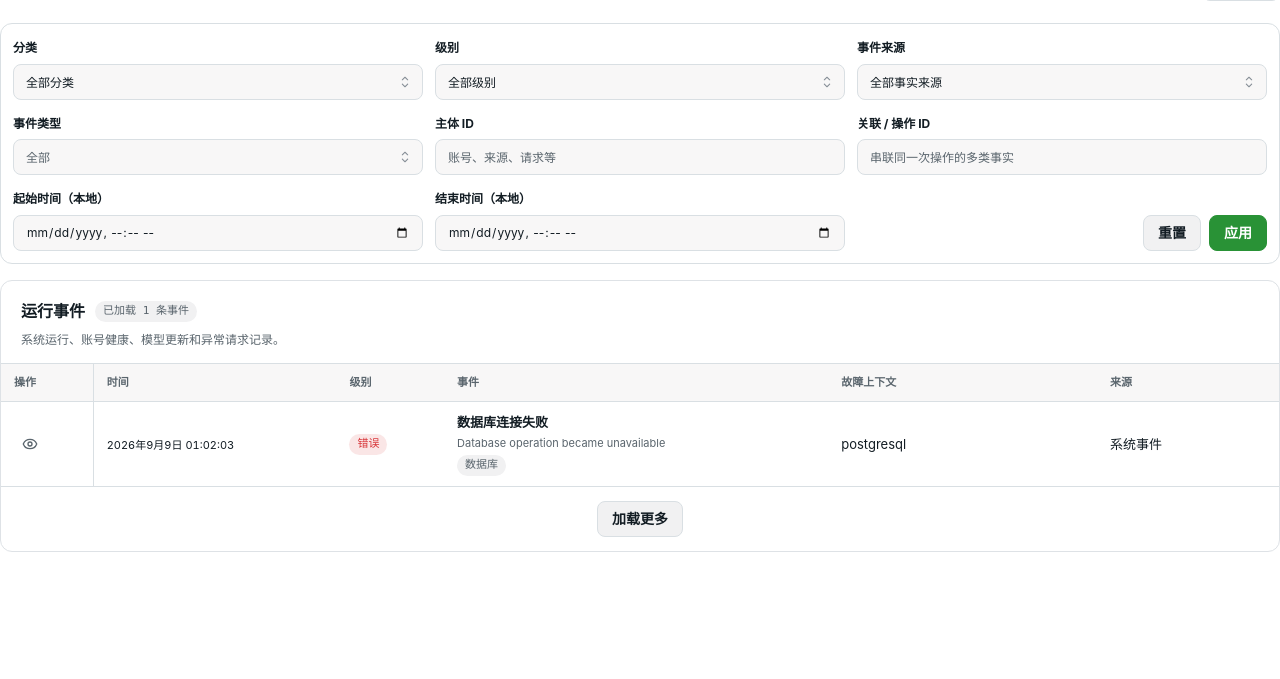
Test case: RuntimeEventsPage › cancels pagination when refresh starts and keeps the published cursor after refresh fails
What coordinates should you click on to do the following:
click the button "加载更多"
I would click on:
 (640, 519)
Its box is [597,501,683,537].
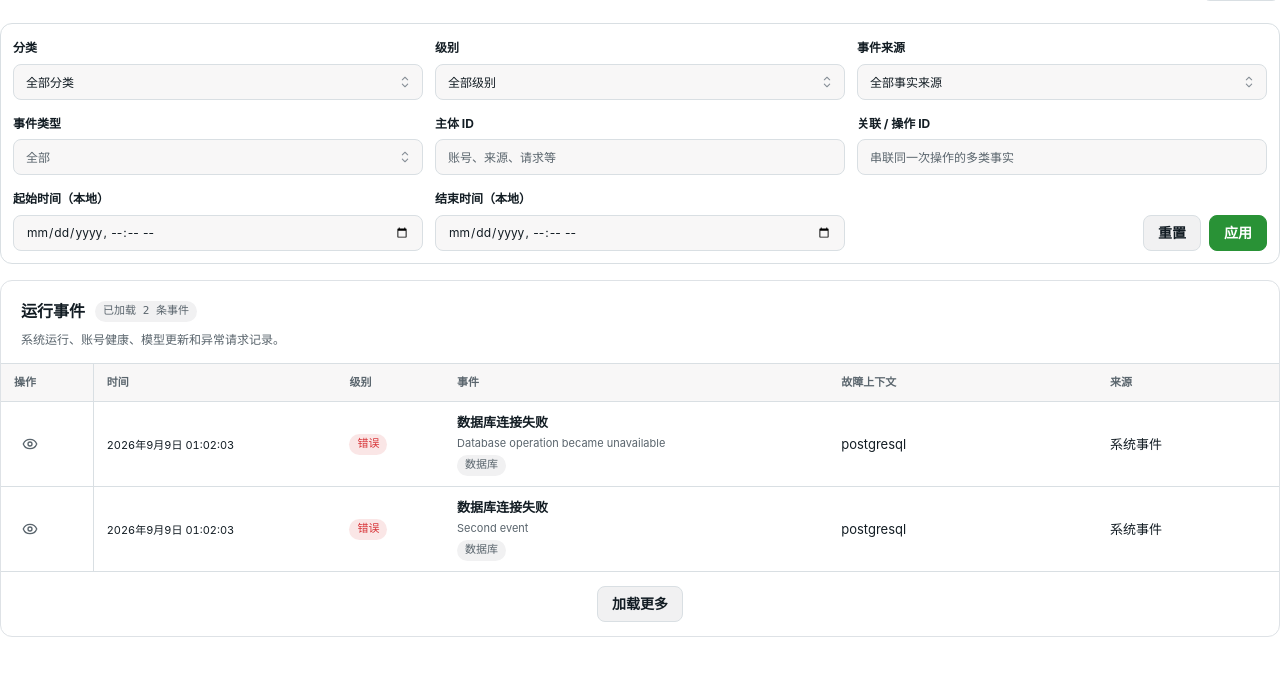
What coordinates should you click on to do the following:
click the button "加载更多"
I would click on:
 (640, 604)
Its box is [597,586,683,622].
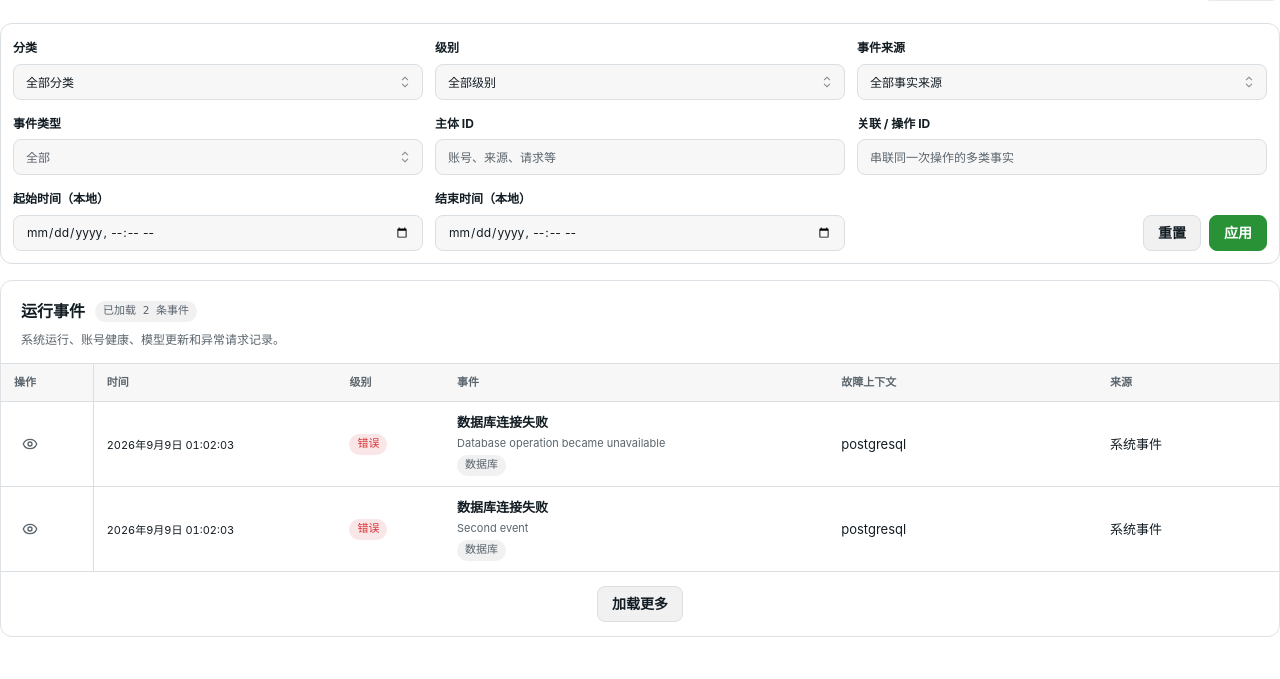
What coordinates should you click on to do the following:
click the button "加载更多"
I would click on:
 (640, 604)
Its box is [597,586,683,622].
(page scrolled)
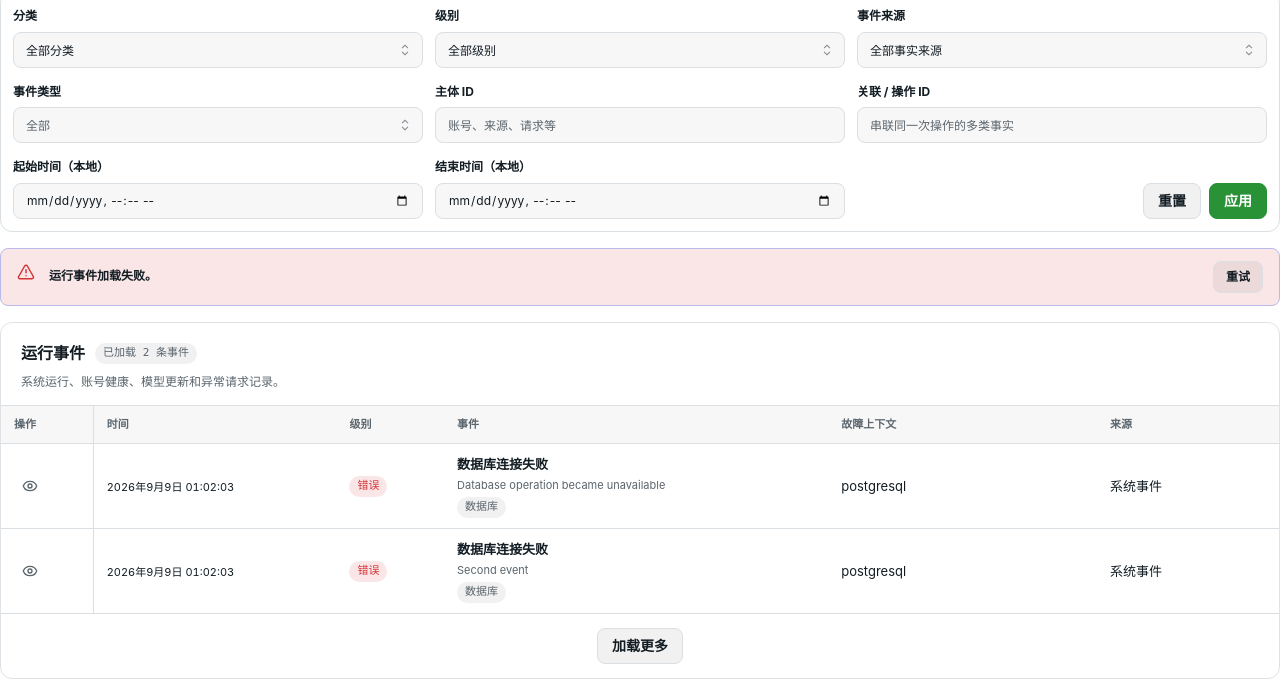
What coordinates should you click on to do the following:
click the button "加载更多"
I would click on:
 (640, 646)
Its box is [597,628,683,664].
(page scrolled)
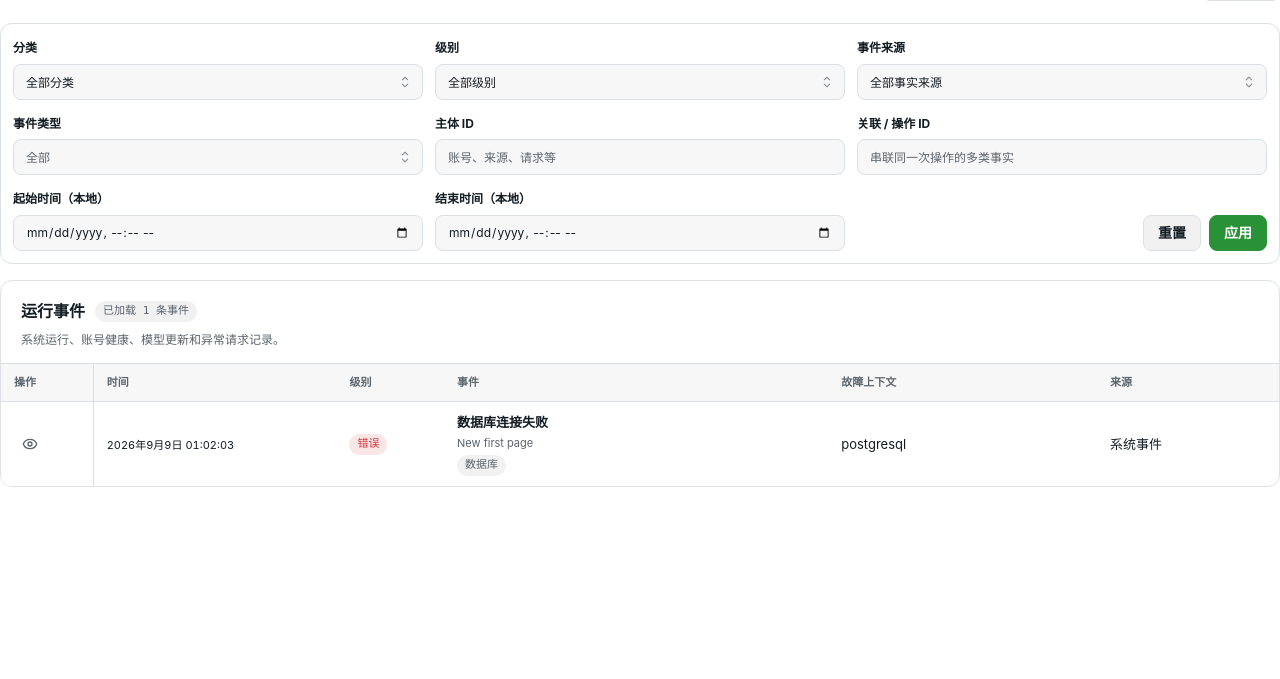
Expected: the text "Second event" is gone
